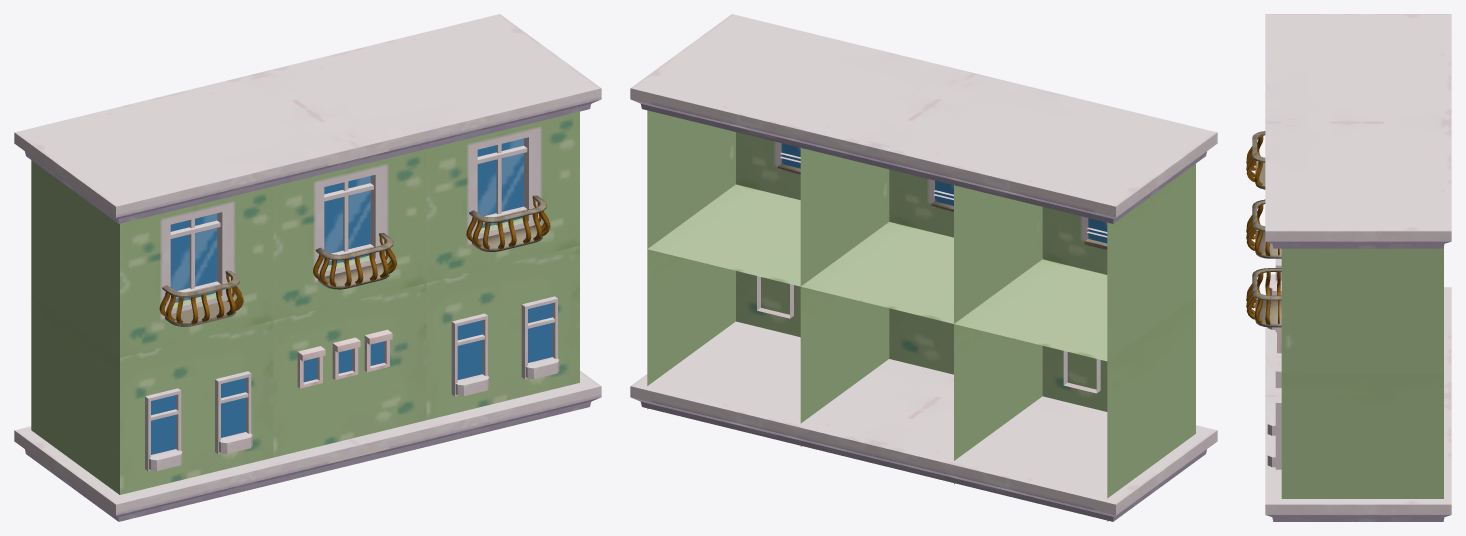
The model's file is bld-3.fbx.
3 renders of one model, left to right at view 1: azimuth 30°, elevation 25°; view 2: azimuth 150°, elevation 25°; view 3: azimuth 270°, elevation 25°, orthographic. The views are drawn at different scales.
Parts seen in each view (by area): view 1: bld3-top, bld3-wall, bld3-wall2, Cube.001, Cube.005, Cube.023, Cube.029, Cube.017, Cube.018, Cube.019, Cube.021, bld3-window2 (+6 smaller); view 2: bld3-top, Cube.029, bld3-wall2, Cube.017, Cube.001, Cube.023, bld3-wall, Cube.005; view 3: bld3-top, Cube.017, Cube.005, Cube.029, Cube.006, Cube.002, bld3-window, Cube.018, Cube.019.
Boxes of the visible parts, x1,y1,x2,y2 form: bld3-top: (14,14,601,223); bld3-wall: (31,160,273,357); bld3-wall2: (31,293,273,494); Cube.001: (273,149,426,320); Cube.005: (426,111,579,282); Cube.023: (273,283,426,457); Cube.029: (14,371,601,521); Cube.017: (426,246,579,419); Cube.018: (521,296,559,379); Cube.019: (451,313,489,396); Cube.021: (215,371,252,454); bld3-window2: (145,388,182,471); bld3-top: (630,14,1217,223); Cube.029: (630,321,1217,521); bld3-wall2: (954,259,1195,521); Cube.017: (647,184,889,420); Cube.001: (800,147,1042,323); Cube.023: (800,222,1042,452); bld3-wall: (954,164,1195,361); Cube.005: (647,110,888,281); bld3-top: (1265,14,1451,248); Cube.017: (1281,373,1443,498); Cube.005: (1281,247,1443,373); Cube.029: (1265,287,1451,521); Cube.006: (1246,268,1281,327); Cube.002: (1246,199,1281,258); bld3-window: (1246,131,1265,189); Cube.018: (1267,388,1281,469); Cube.019: (1267,356,1281,435).
Size of the model in its own units: 6.33 by 4 by 2.53.
